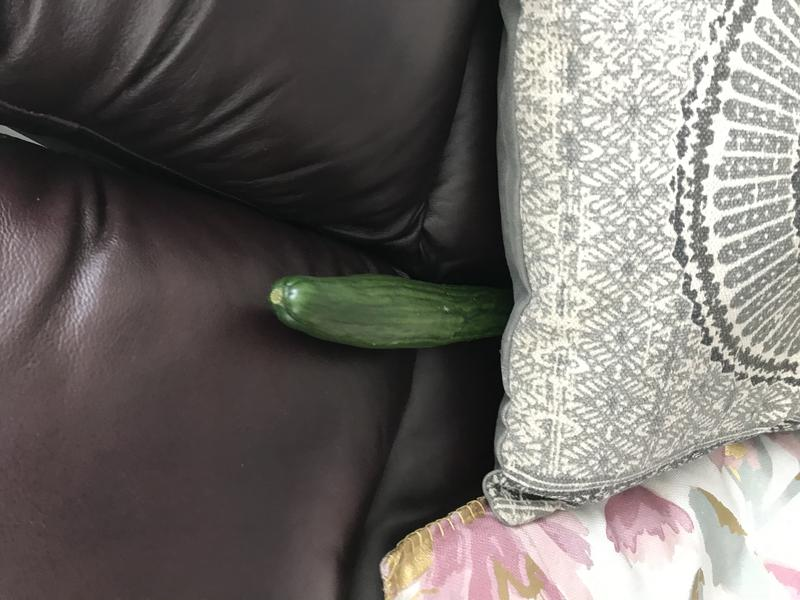cucumber: (260, 262, 536, 369)
